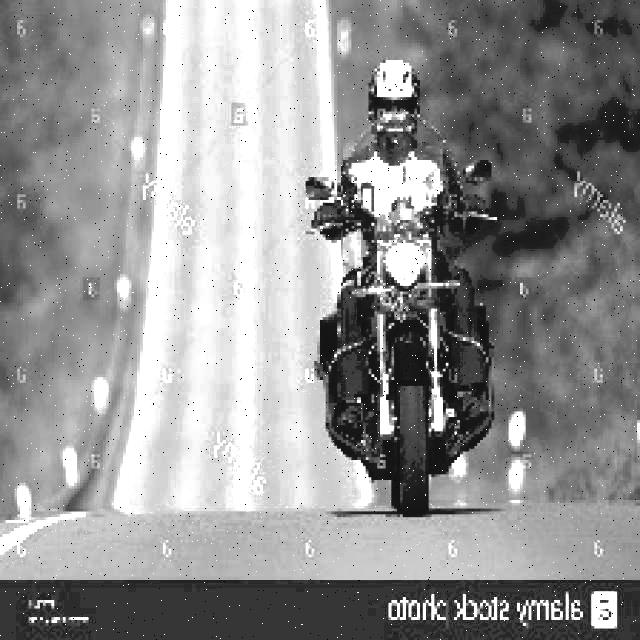Bike: (349, 175, 501, 517)
